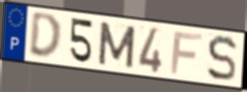4: (137, 26, 165, 75)
5: (69, 16, 94, 64)
D: (27, 12, 63, 62)
F: (169, 31, 204, 76)
M: (96, 20, 137, 70)
S: (206, 34, 238, 83)
